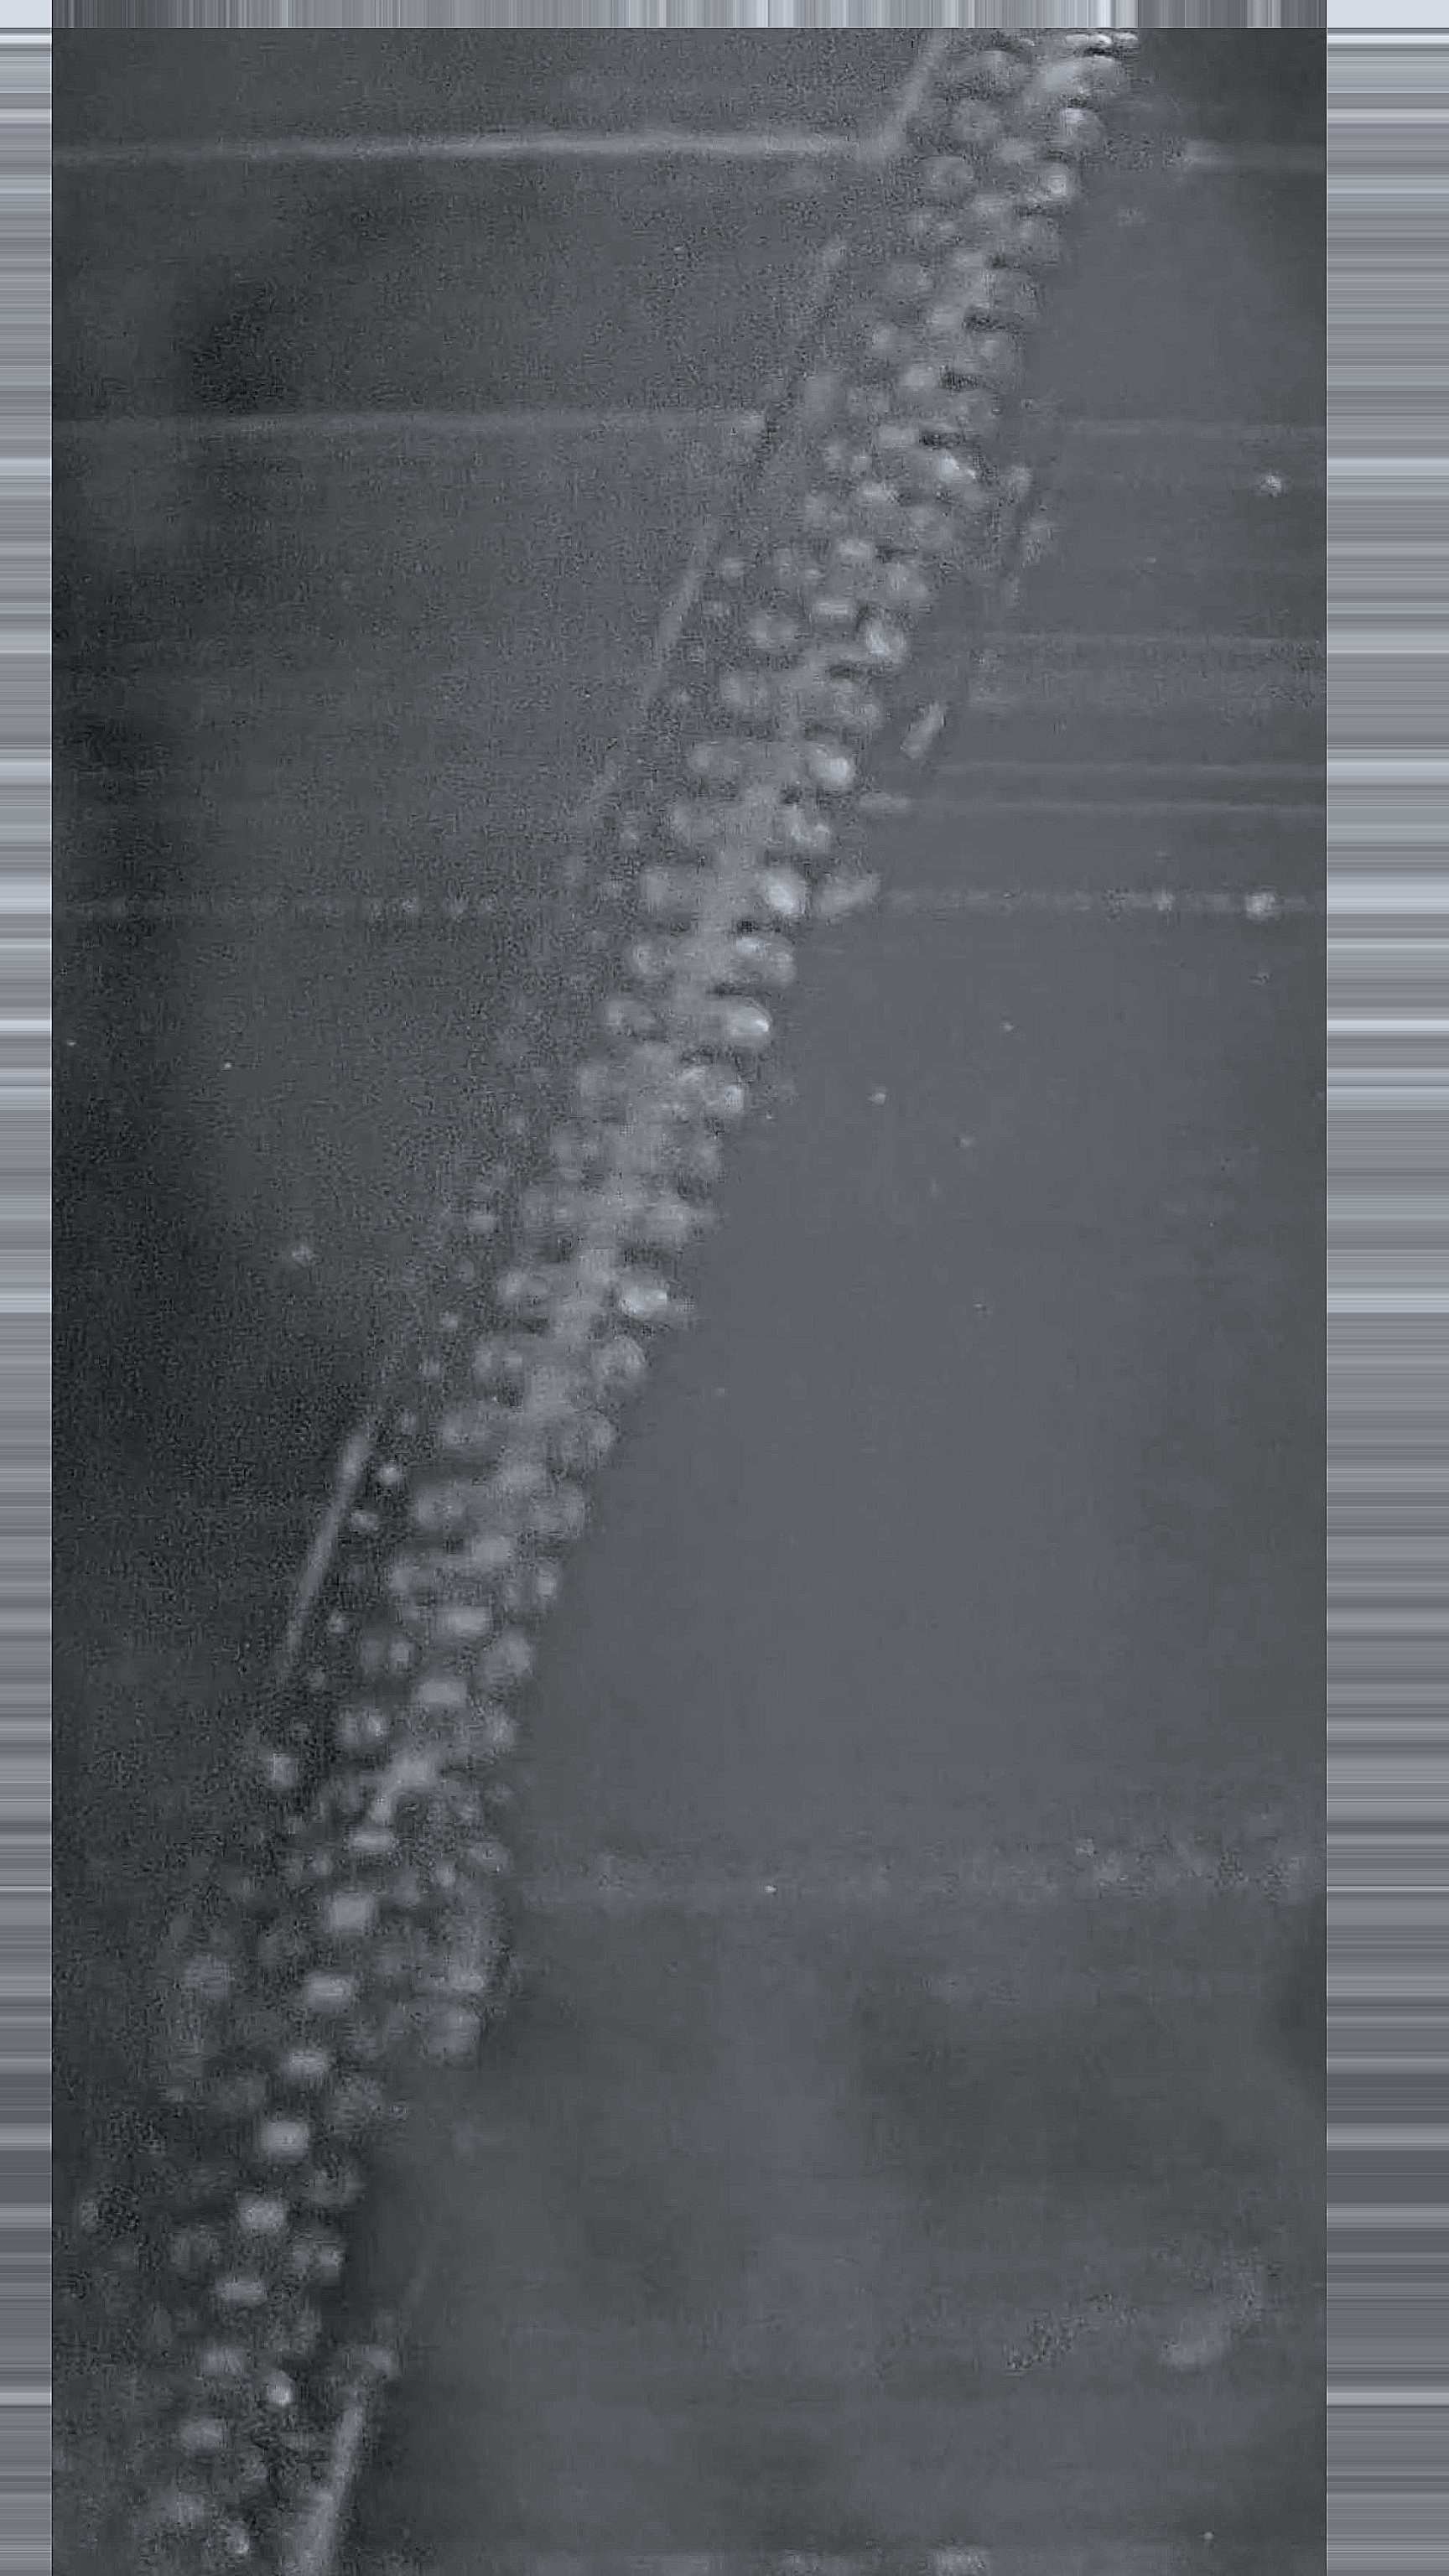splice_vulcanized: (50, 27, 1143, 2576)
